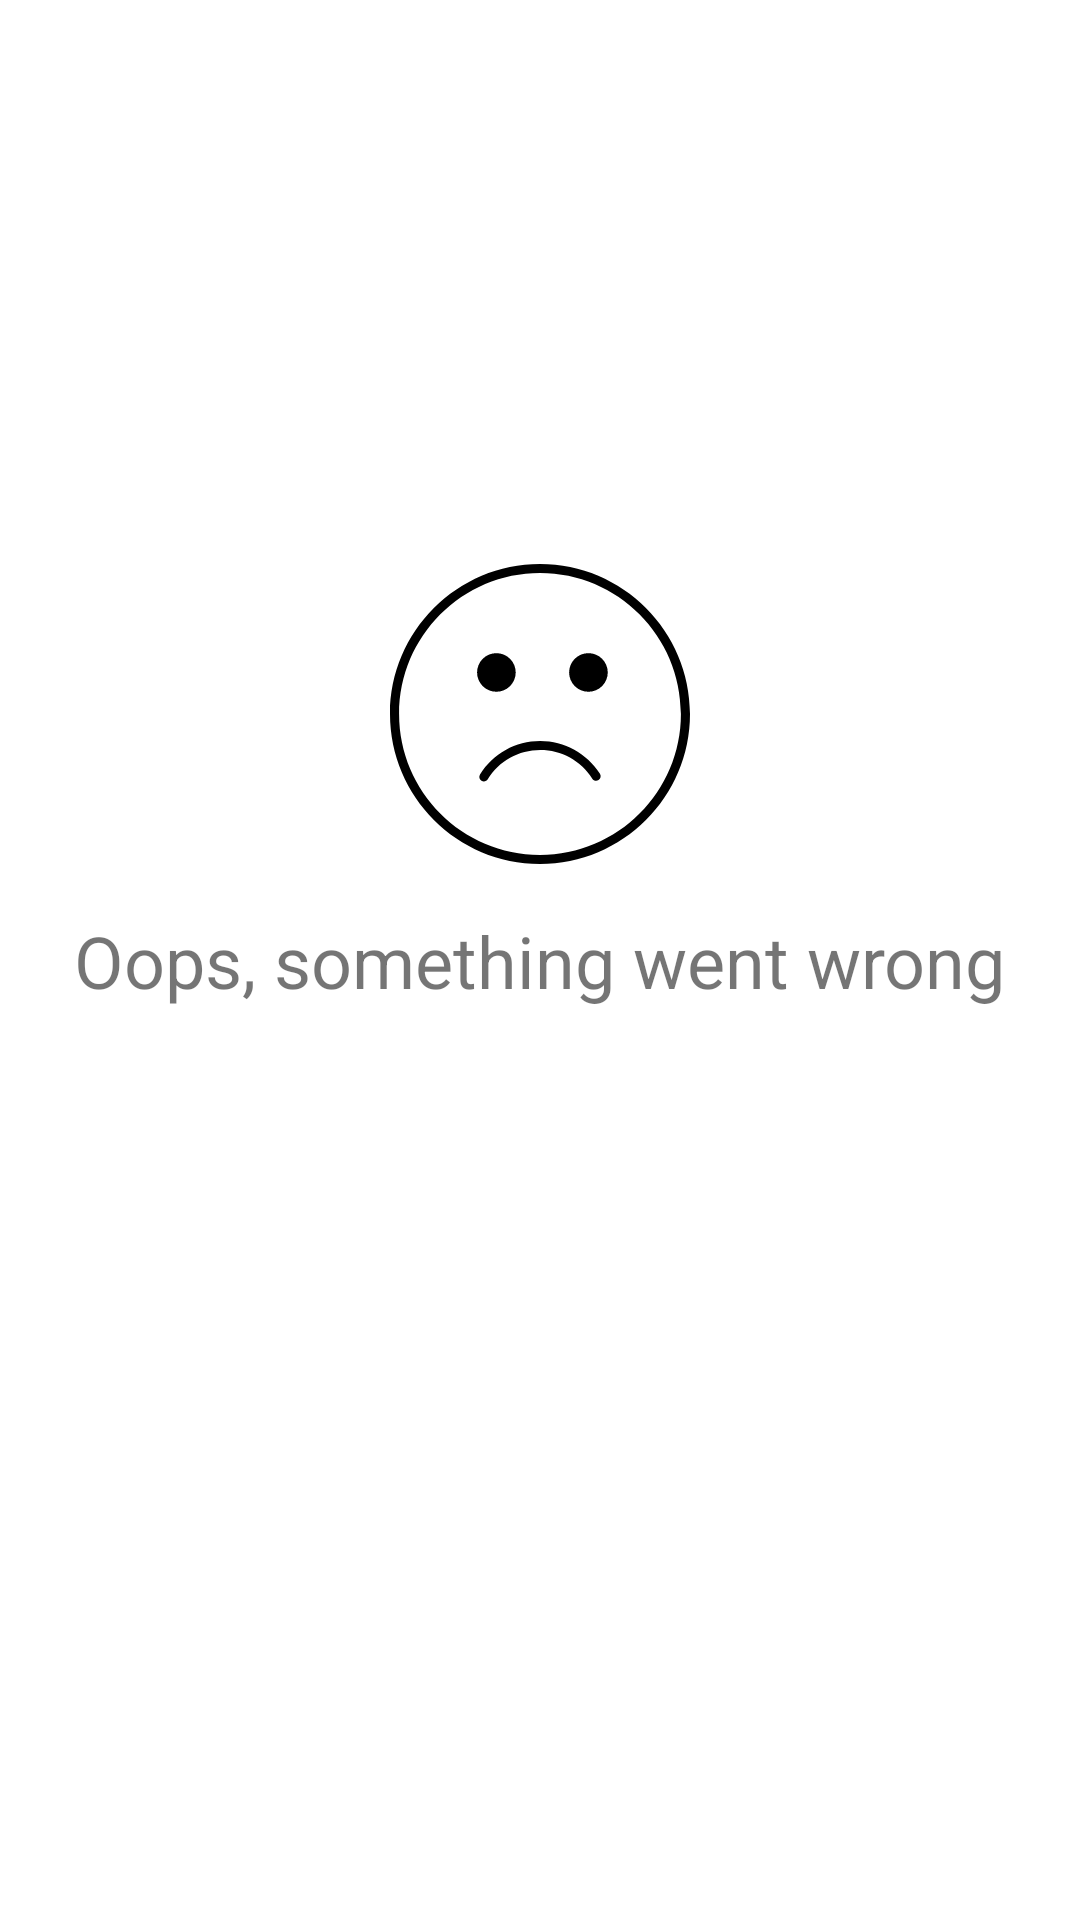

Screen size 1080×1920. Icon name, then its box in pixels as (x1, y1, x2, y2):
sad: (390, 564, 690, 864)
